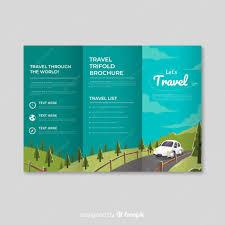paper: (19, 43, 205, 173)
